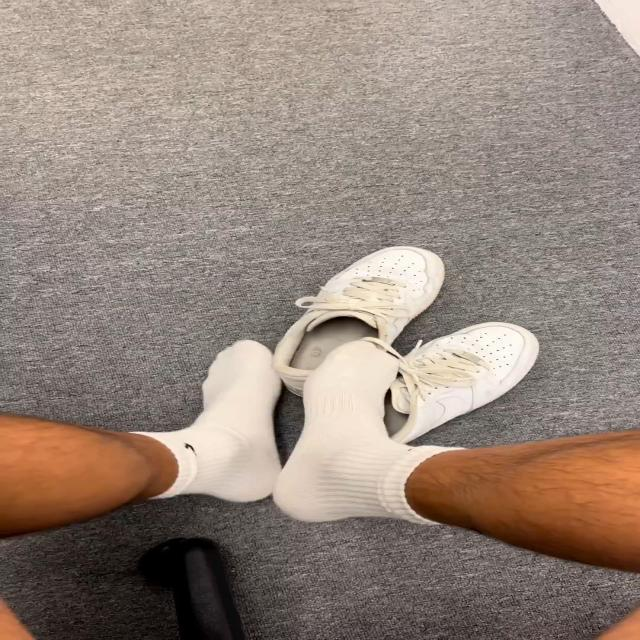nike original air force: (270, 245, 454, 400), (356, 326, 542, 456)
